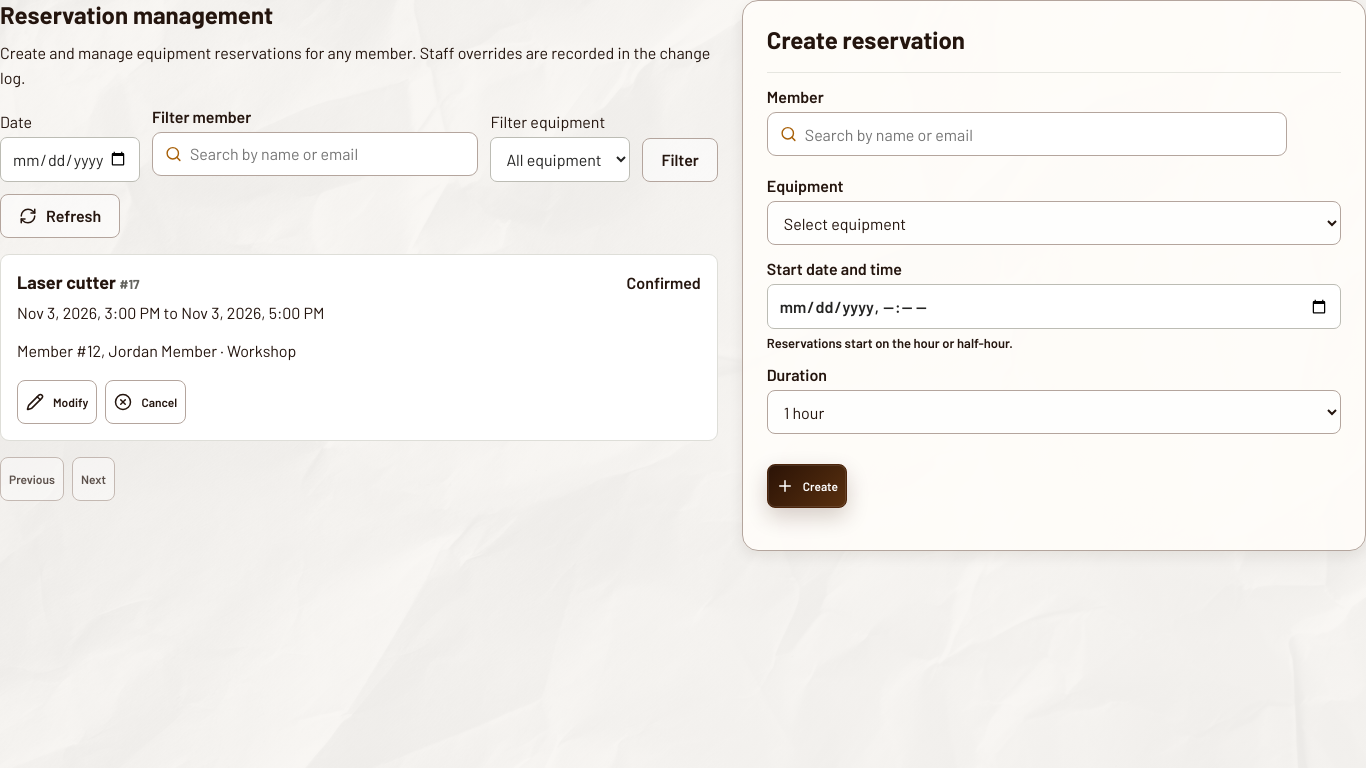
Test: Cancel names the reservation and requires confirmation; keeping it performs no write
Click the button "Cancel". click: click(146, 402)
box: [105,380,186,424]
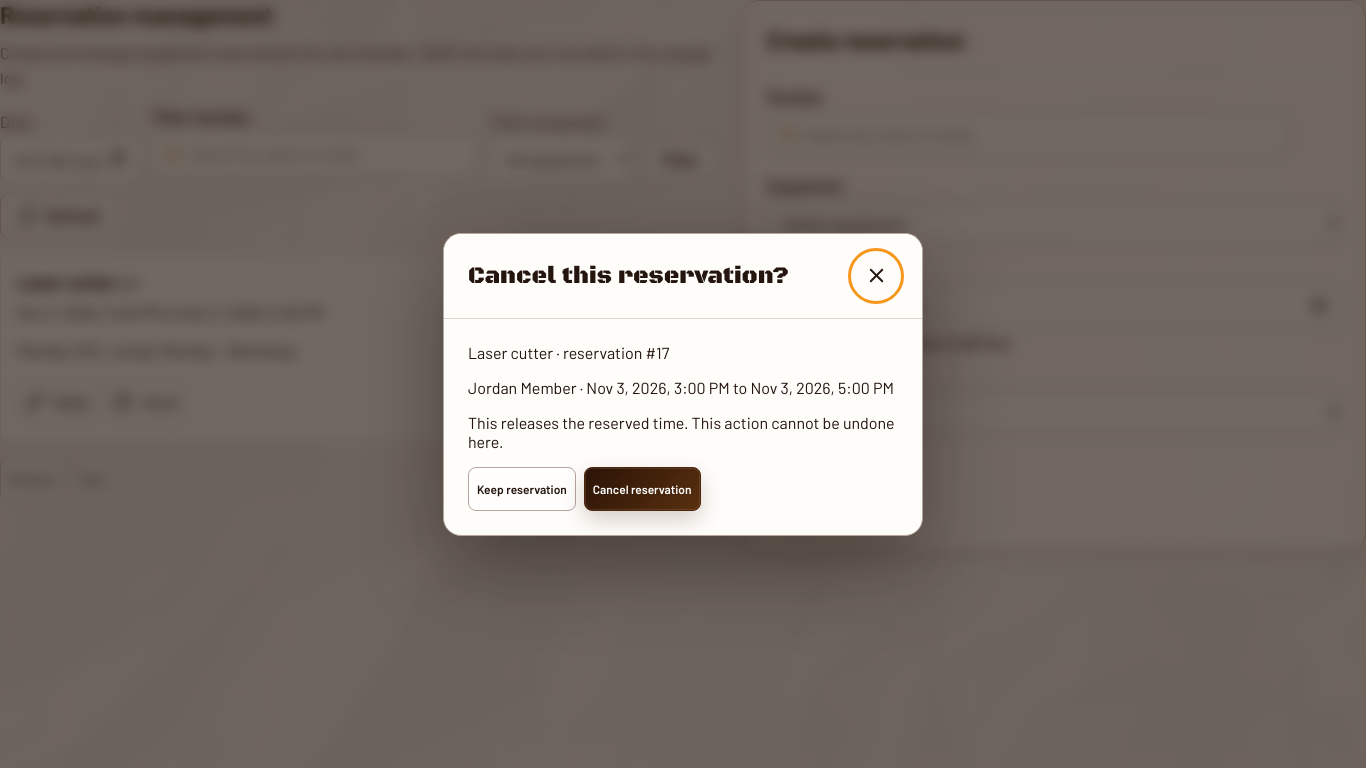
expect the dialog "Cancel this reservation?" shows "Laser cutter · reservation #17": met, box [443,232,923,536]
expect the dialog "Cancel this reservation?" shows "Jordan Member": met, box [468,378,577,396]
Click the button "Keep reservation". click: click(522, 488)
box: [468,466,576,510]
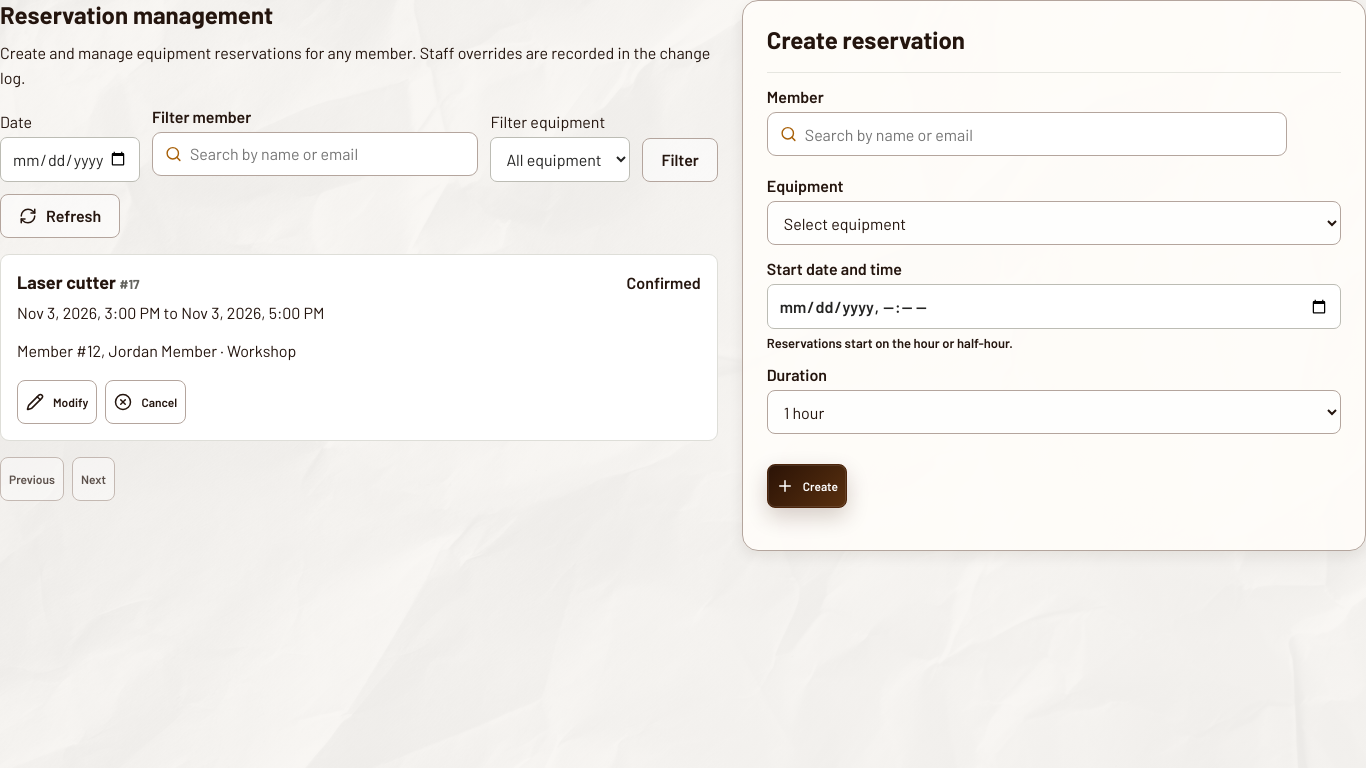
expect the dialog is gone: met
Click the button "Cancel". click: click(146, 402)
box: [105,380,186,424]
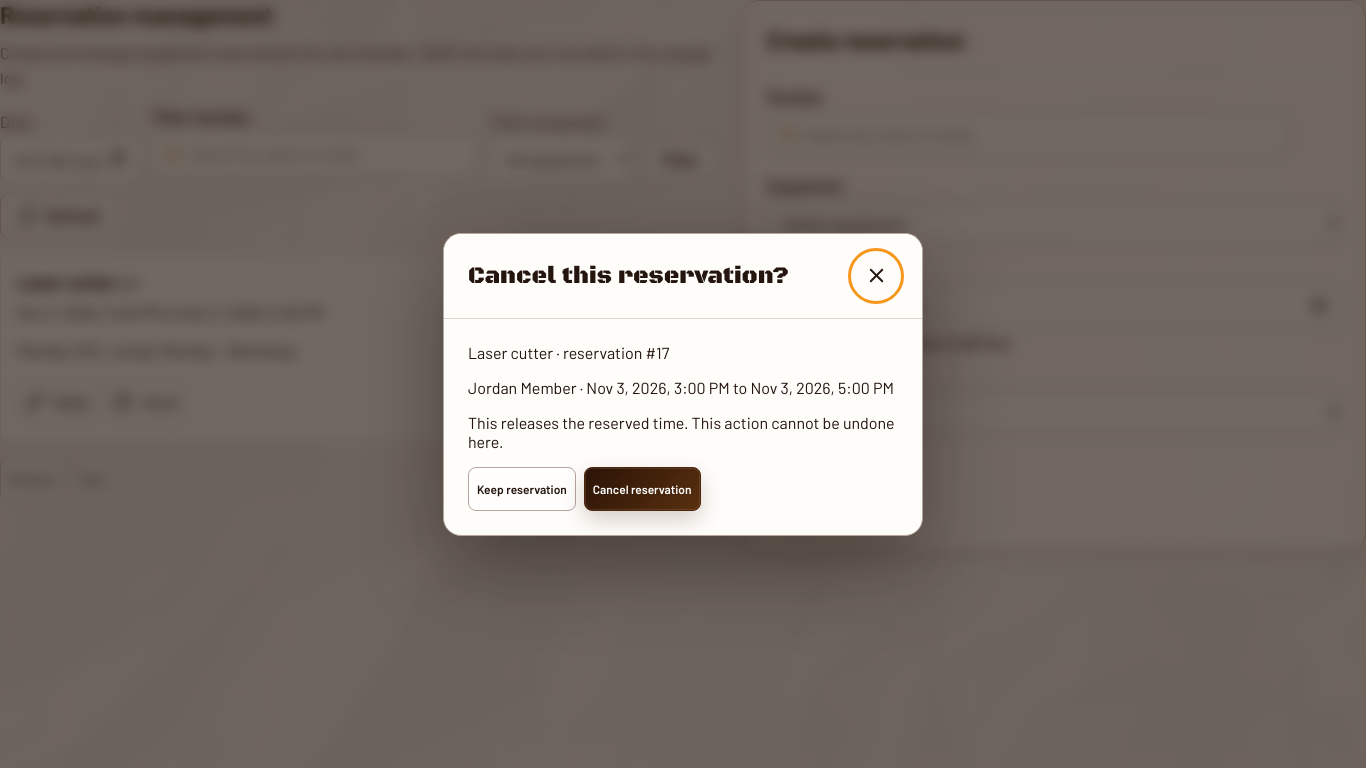
Click the button "Cancel reservation". click: click(642, 488)
box: [584,466,701,510]
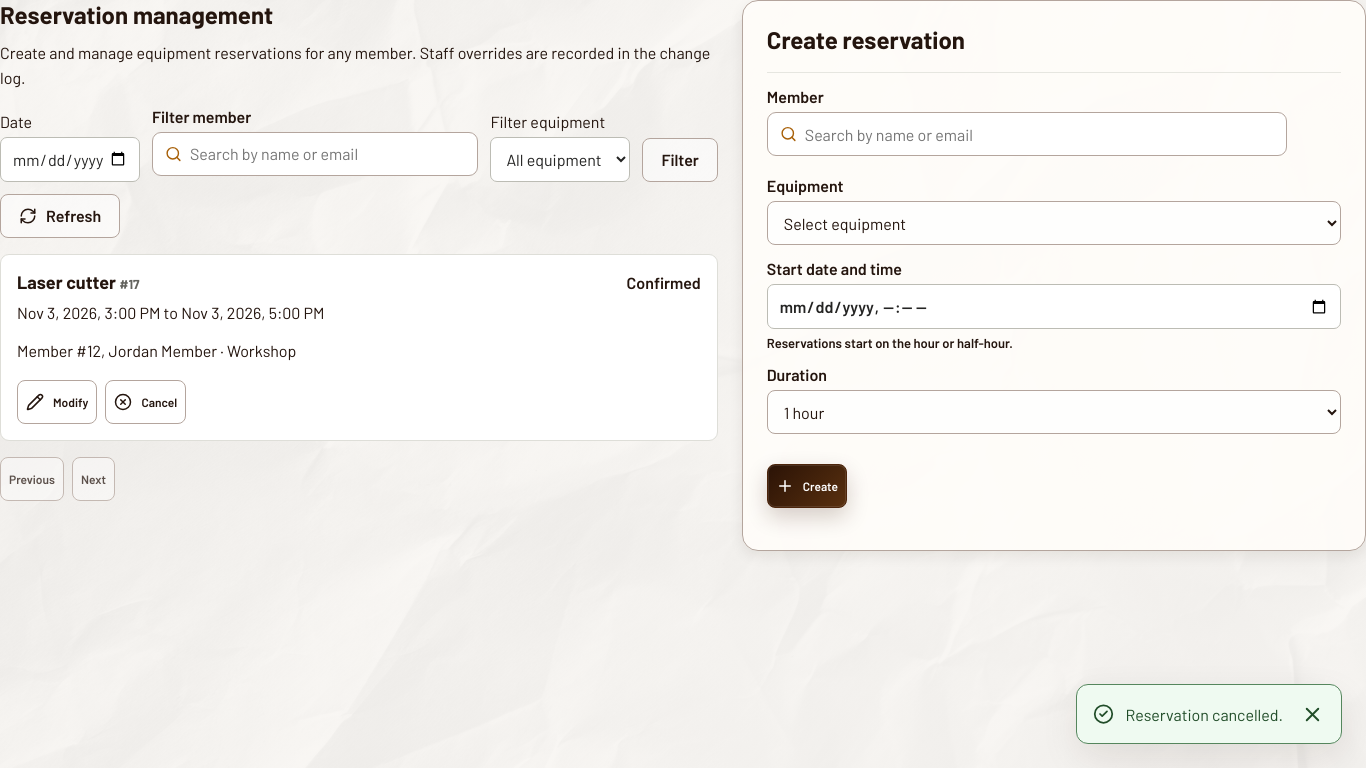
expect the dialog is gone: met
